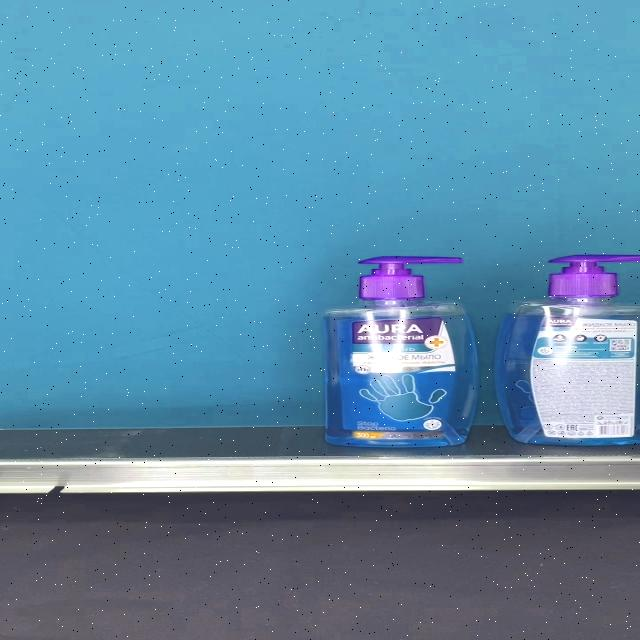Bottle: (320, 256, 478, 448), (495, 255, 640, 445)
Cap: (358, 256, 462, 300), (548, 255, 640, 297)
